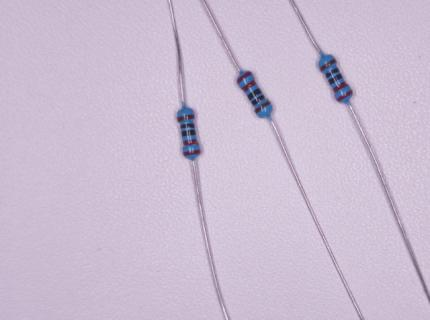Red band: (336, 89, 353, 102), (237, 71, 253, 84), (333, 81, 349, 93), (242, 80, 257, 92), (183, 150, 201, 156), (183, 139, 199, 145)
